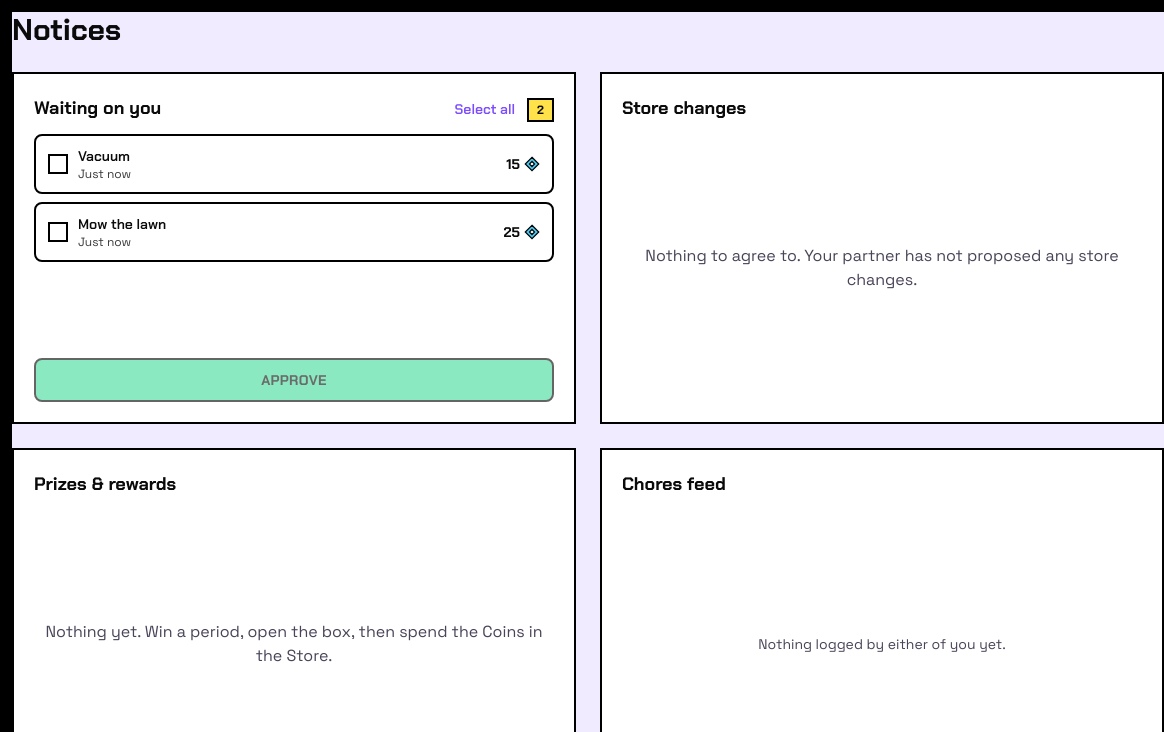
bulk approve › surfaces a real failure
Click the button "Vacuum Just now 15". click: [104, 156]
box: 34,134 -> 554,194
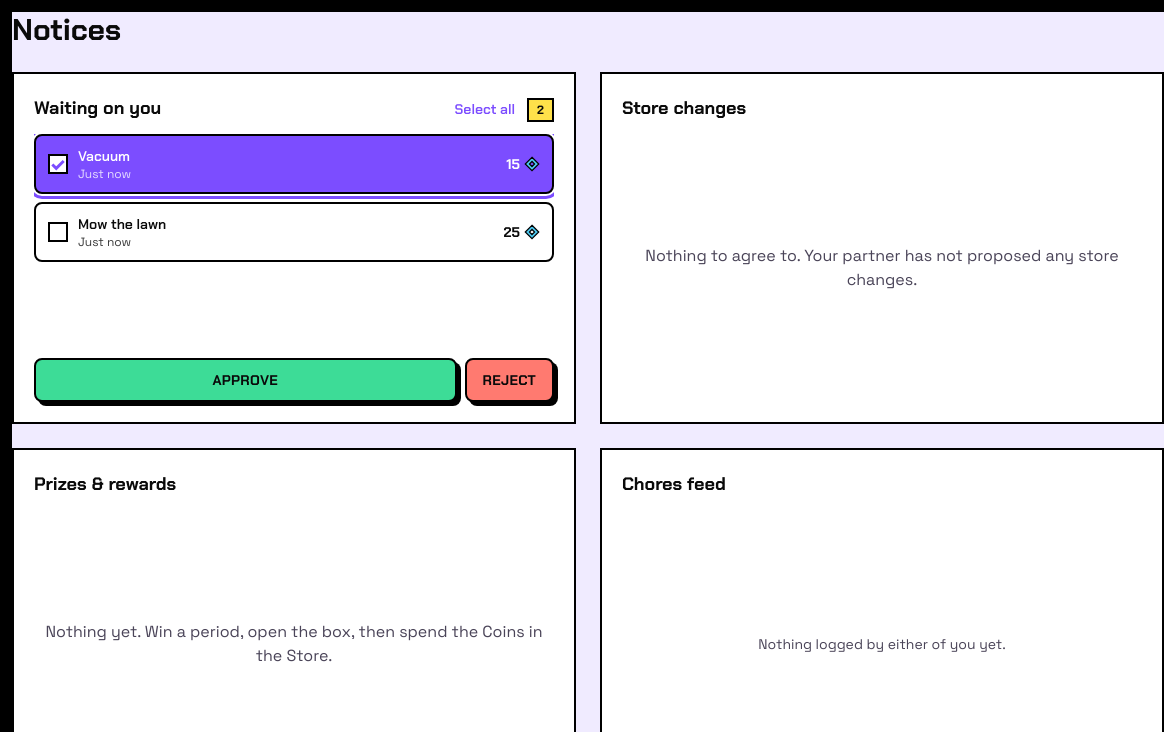
Click the button "Approve". click: [245, 380]
box: 34,358 -> 456,402
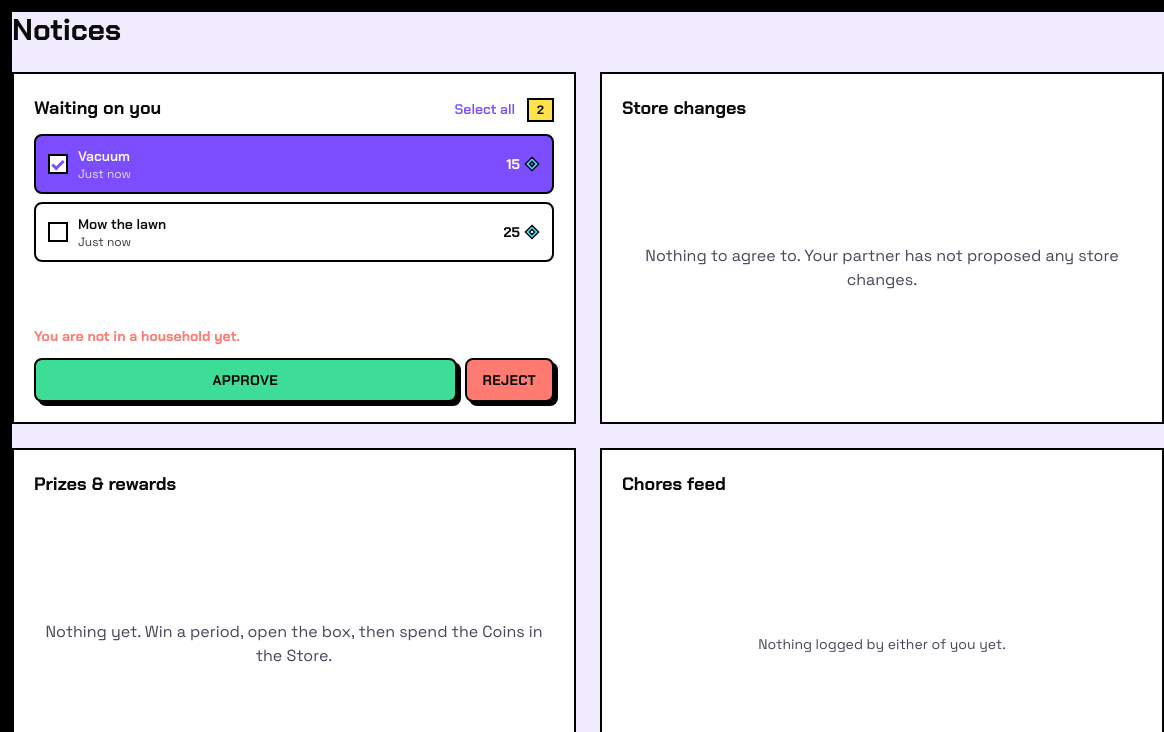
Check: the message reads "You are not in a household yet.", box 34,327 -> 240,345
